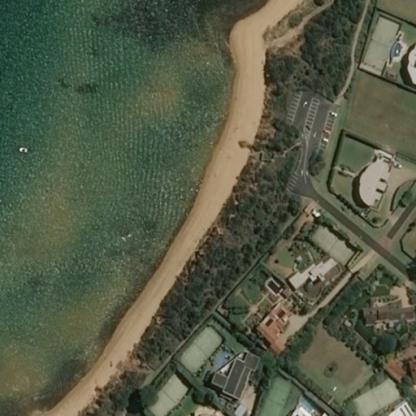ship: (15, 142, 31, 156)
